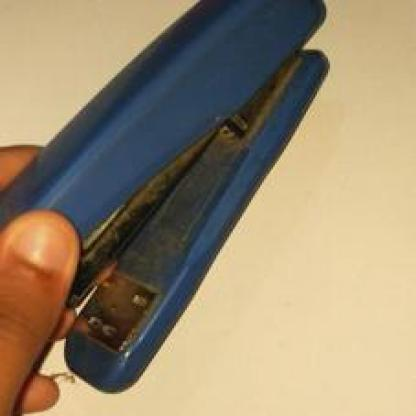stapler: (14, 11, 326, 376)
